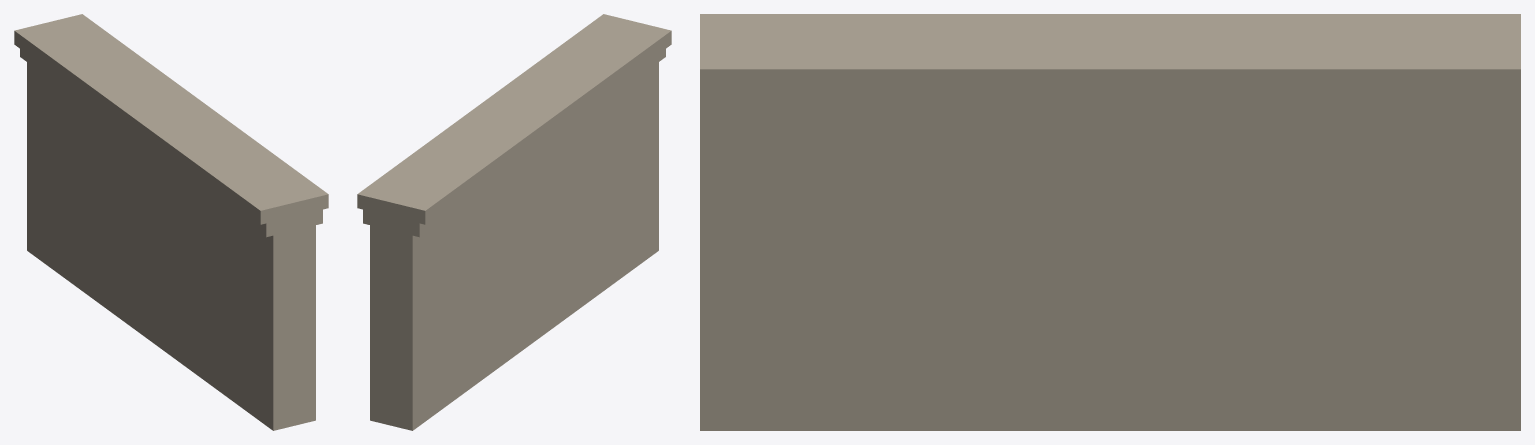
The model's file is Village_Wall_1m_Plaster_Roof.fbx.
3 renders of one model, left to right at view 1: azimuth 30°, elevation 25°; view 2: azimuth 150°, elevation 25°; view 3: azimuth 270°, elevation 25°, orthographic. The views are drawn at different scales.
Visible parts, largest first — view 1: Village_Wall_2m_Roof_A.282; view 2: Village_Wall_2m_Roof_A.282; view 3: Village_Wall_2m_Roof_A.282.
Boxes of the visible parts, bbox=[...] form: Village_Wall_2m_Roof_A.282: bbox=[14, 14, 328, 430]; Village_Wall_2m_Roof_A.282: bbox=[357, 14, 671, 430]; Village_Wall_2m_Roof_A.282: bbox=[700, 14, 1520, 430].
Bounding box in the file's own units: 31.91 × 100 × 200.
